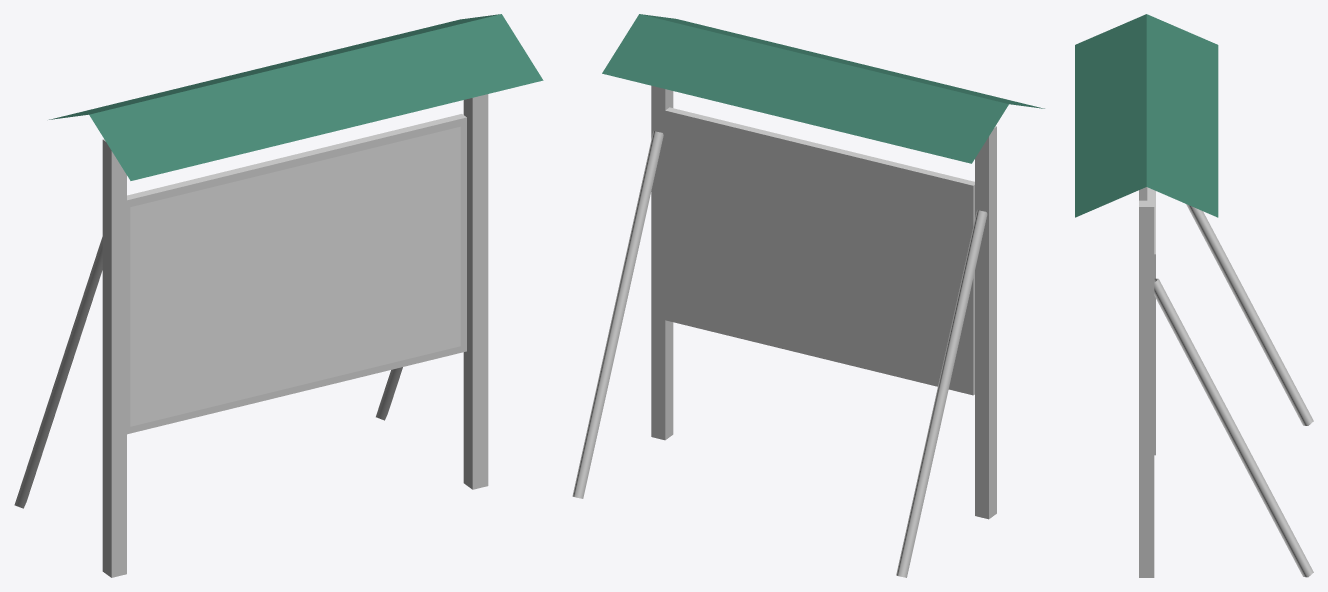
Rendered from notice_board.glb.
The picture shows the model from 3 angles, left to right: view 1: azimuth 30°, elevation 25°; view 2: azimuth 150°, elevation 25°; view 3: azimuth 270°, elevation 25°; orthographic projection. The views are drawn at different scales.
Visible parts, largest first — view 1: notice_board; view 2: notice_board; view 3: notice_board.
Part boxes in pixels (<box>): notice_board: <box>14,14,543,577</box>; notice_board: <box>572,14,1044,577</box>; notice_board: <box>1075,14,1313,577</box>.
Bounding box in the file's own units: 2.4 × 2.6 × 1.4.
